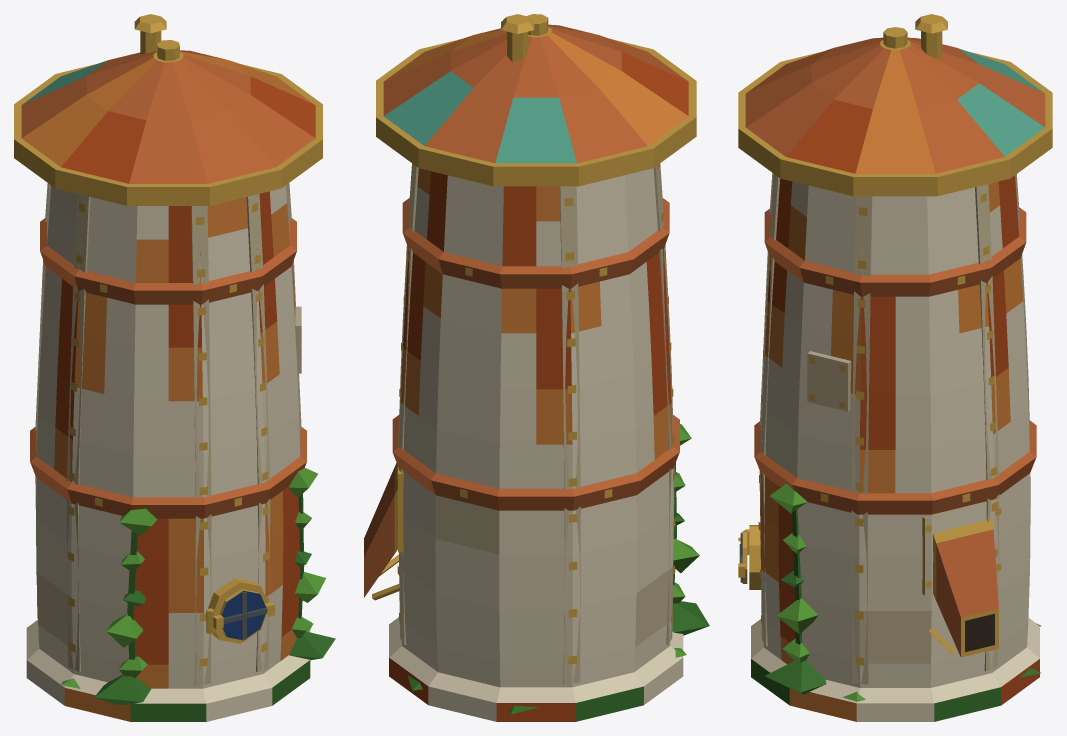
The model's file is rolled-plate-silo-42304a.glb.
The picture shows the model from 3 angles, left to right: view 1: azimuth 30°, elevation 25°; view 2: azimuth 150°, elevation 25°; view 3: azimuth 270°, elevation 25°; orthographic projection. The views are drawn at different scales.
Parts seen in each view (by area): view 1: silo, hatch-mesh; view 2: silo; view 3: silo.
Boxes of the visible parts, box(x1,y1,x2,y2) form: silo: box(14, 14, 335, 721); hatch-mesh: box(213, 589, 274, 640); silo: box(364, 14, 709, 721); silo: box(738, 14, 1052, 721).
Size of the model in its own units: 4 by 9 by 4.
